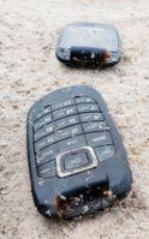electronic: (26, 84, 134, 222)
